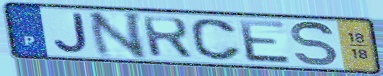C: (189, 17, 245, 62)
E: (235, 18, 294, 66)
J: (51, 12, 91, 55)
N: (85, 11, 150, 61)
R: (139, 15, 195, 60)
S: (289, 20, 341, 69)
